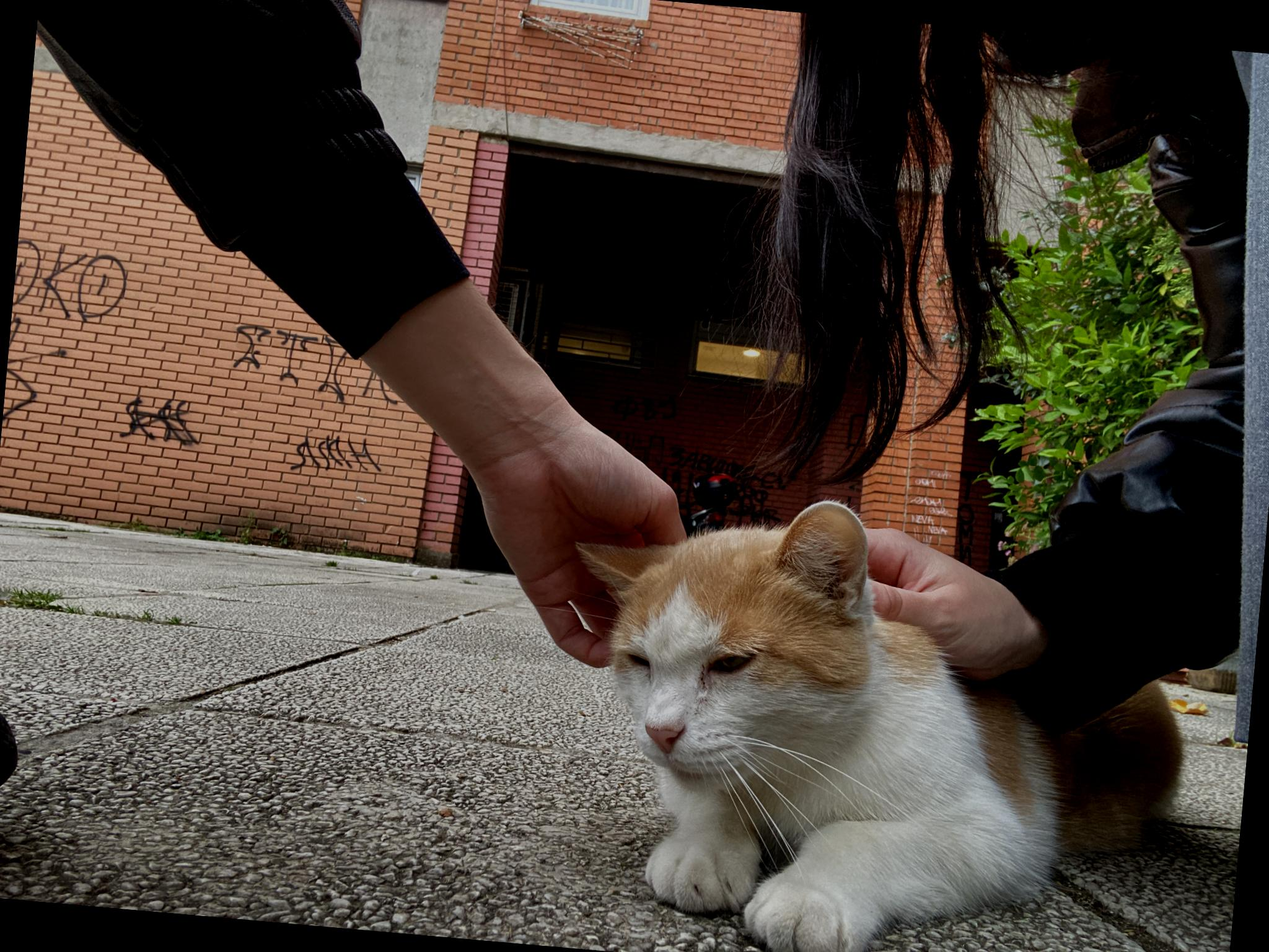macka: (536, 478, 1205, 952)
